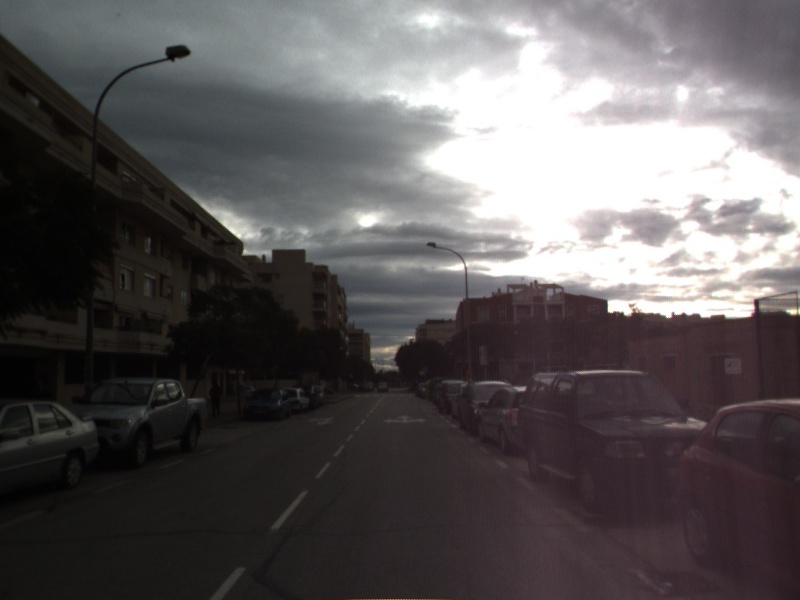STRAIGHT_LEFT_RIGHT: (381, 413, 429, 426)
